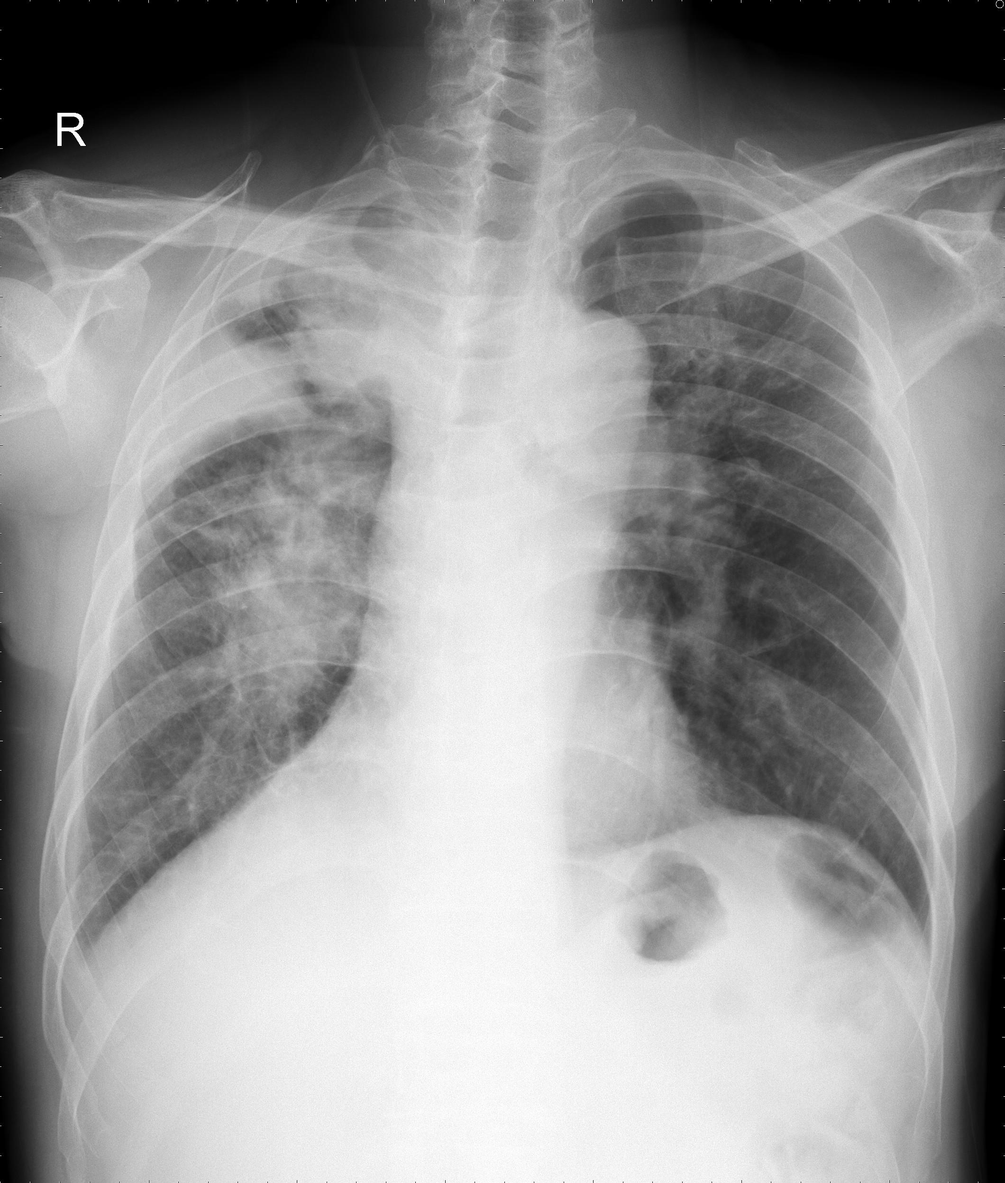Aortic enlargement: (516, 312, 657, 500)
Pleural thickening: (717, 172, 805, 238), (56, 914, 98, 977)
Pulmonary fibrosis: (649, 280, 813, 424)
